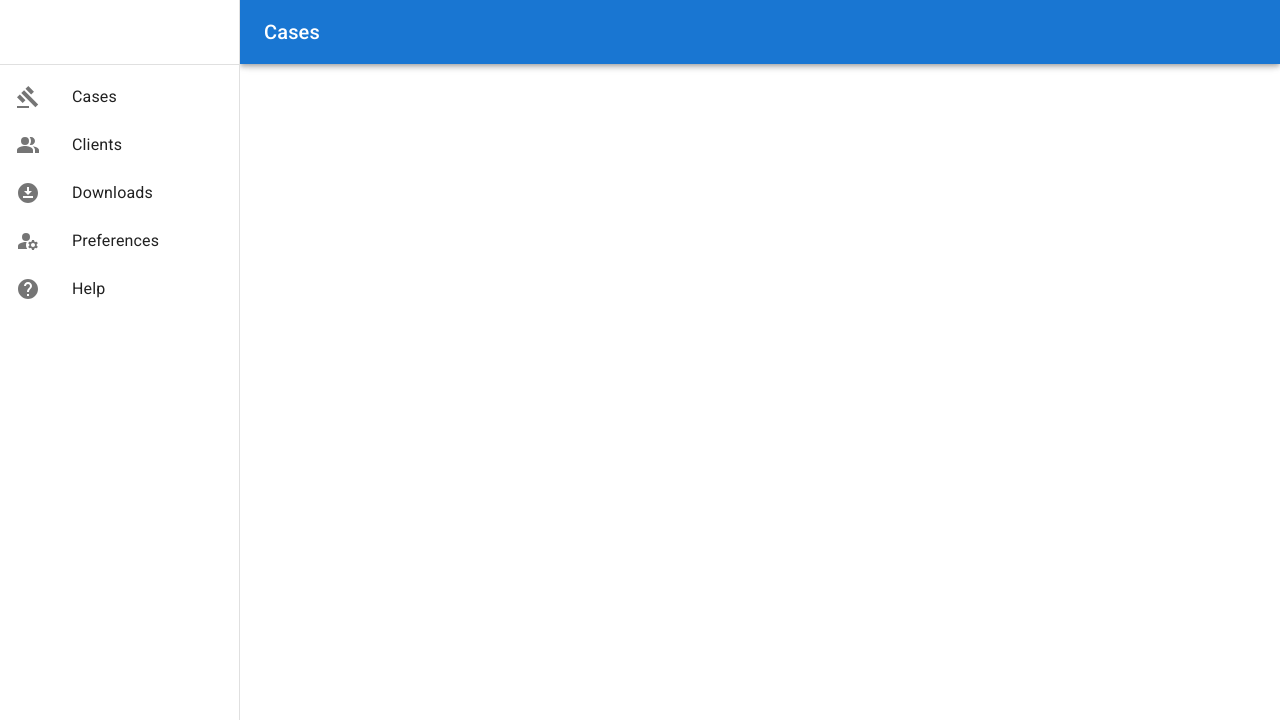
Test: App › navigates on menu item click
What coordinates should you click on to do the following:
click the button "Clients"
I would click on:
 (69, 145)
Its box is [16,133,122,157].
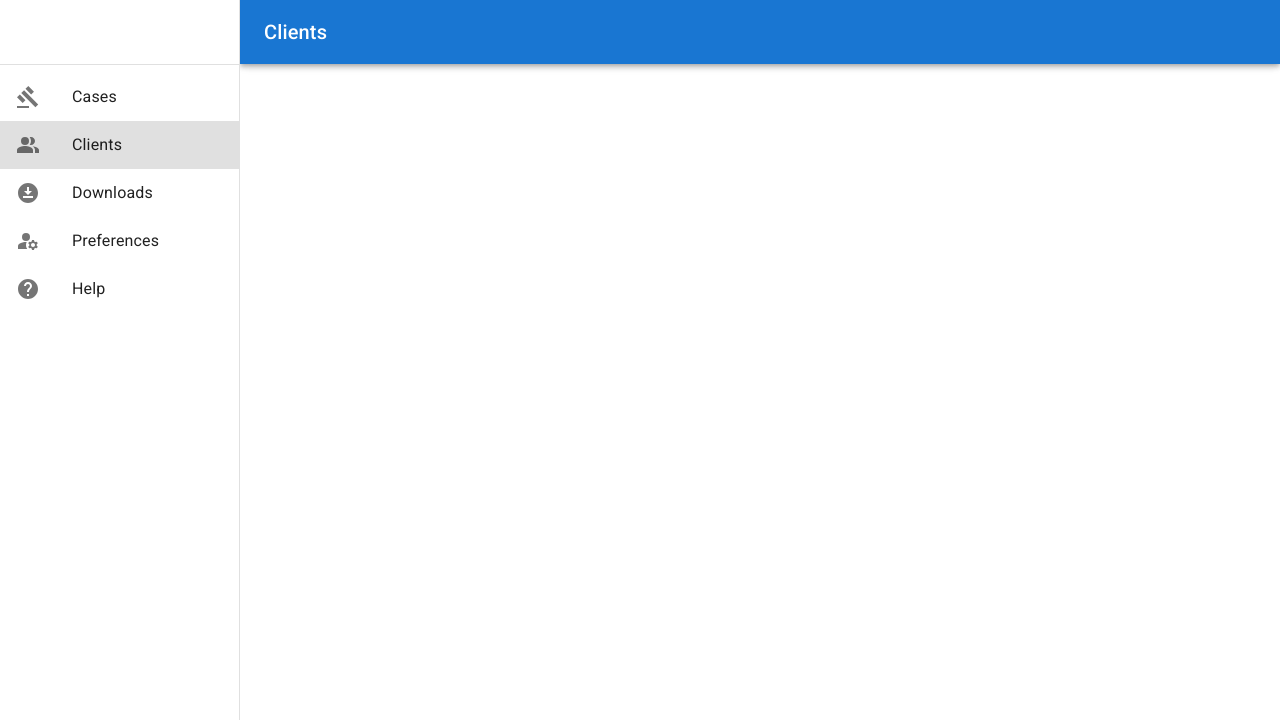
expect the heading "Clients" is shown: met, box [264,16,327,48]
